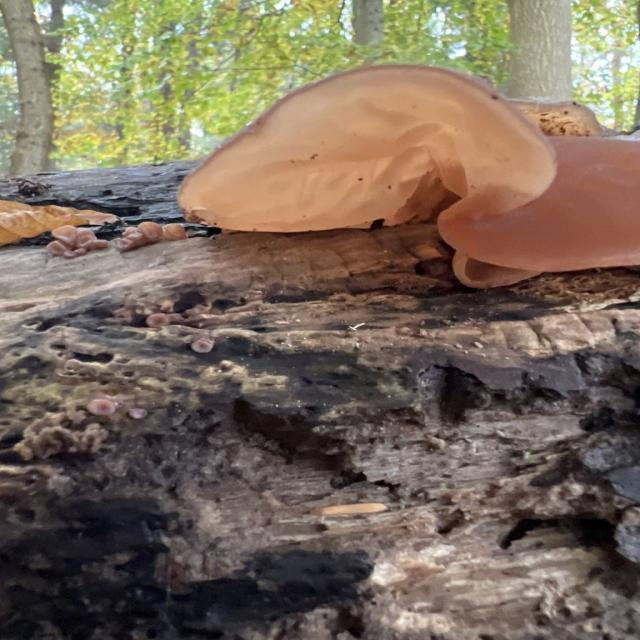Fase Muda: (175, 59, 563, 237), (437, 129, 640, 291)
